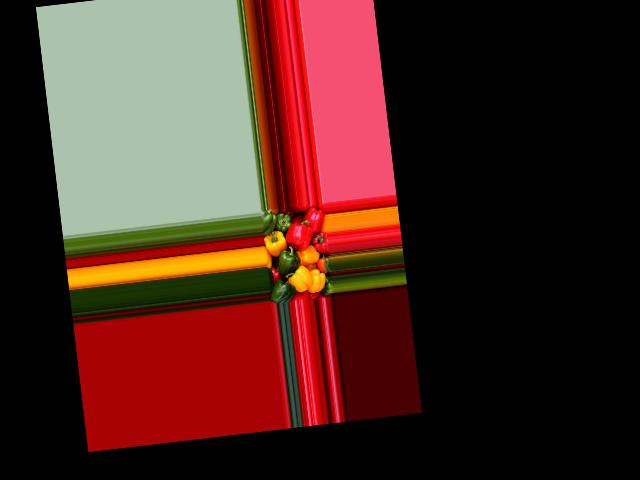bell_pepper: (320, 273, 334, 295)
